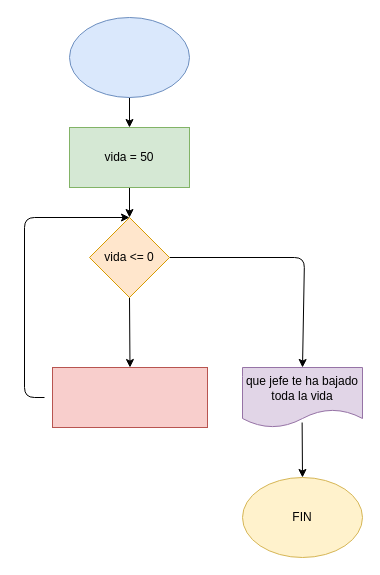
Image size: 380x575. Some labels were removed from this diagram. Each missing label, with the box of its shape:
daño=random.randint(1 , 50 ) vida = vida - daño: (52, 366, 208, 428)
INICIO: (68, 16, 190, 98)
